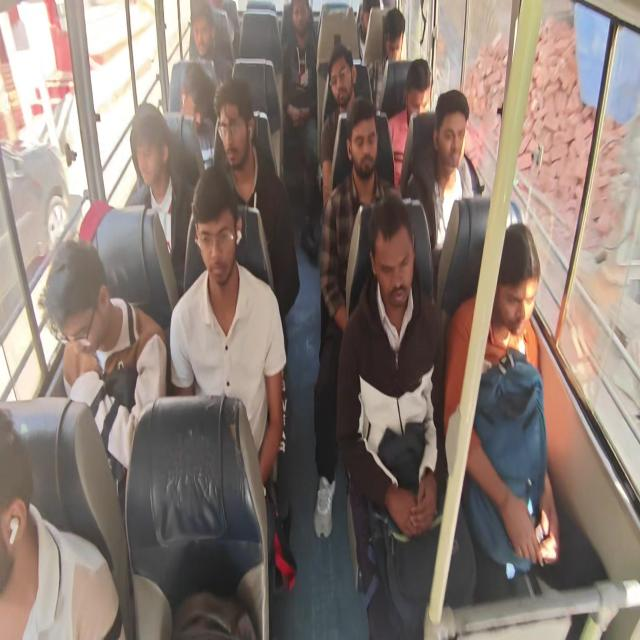person: (40, 245, 124, 361), (0, 407, 47, 569), (191, 205, 250, 284), (372, 216, 416, 310), (492, 238, 534, 334), (131, 114, 172, 187), (175, 66, 216, 136), (216, 104, 255, 171), (340, 110, 377, 175), (432, 109, 468, 160), (186, 10, 217, 58), (327, 55, 355, 105), (357, 0, 386, 46), (288, 0, 315, 48), (384, 14, 408, 67), (405, 67, 431, 108)
